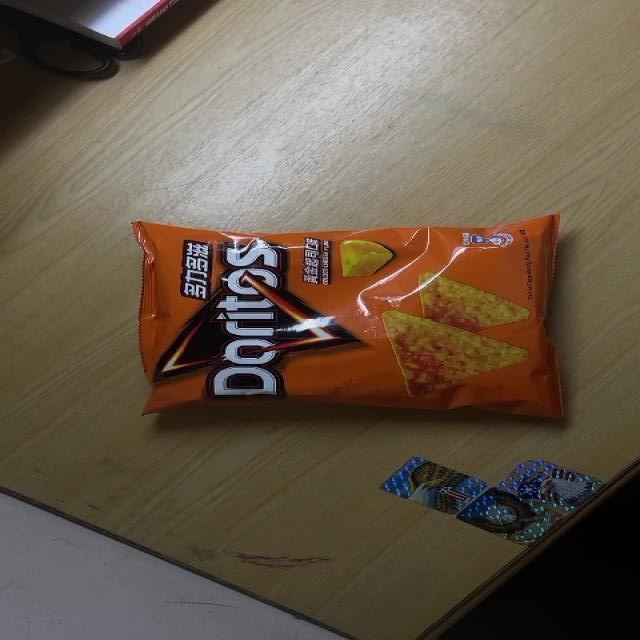Doritos: (129, 211, 566, 424)
